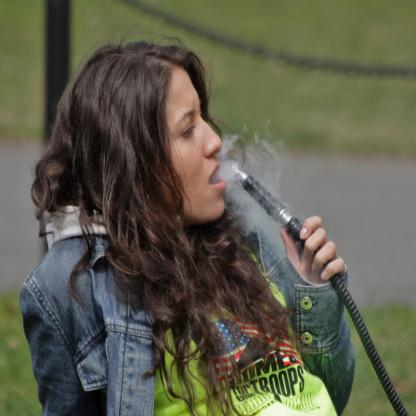smoking: (231, 165, 304, 240)
